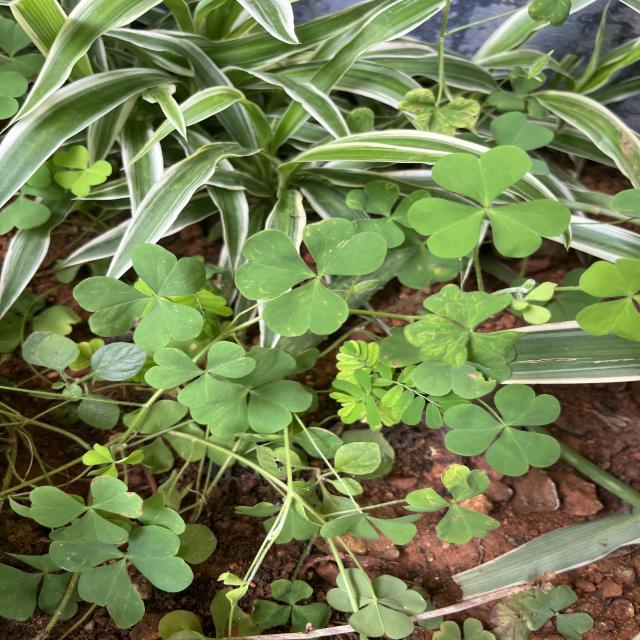Oxalis corniculata: (405, 144, 573, 260), (233, 215, 389, 338), (72, 242, 208, 352), (442, 382, 562, 478), (402, 282, 530, 370), (28, 474, 144, 544), (143, 340, 257, 410), (574, 256, 640, 344), (51, 144, 113, 198)
